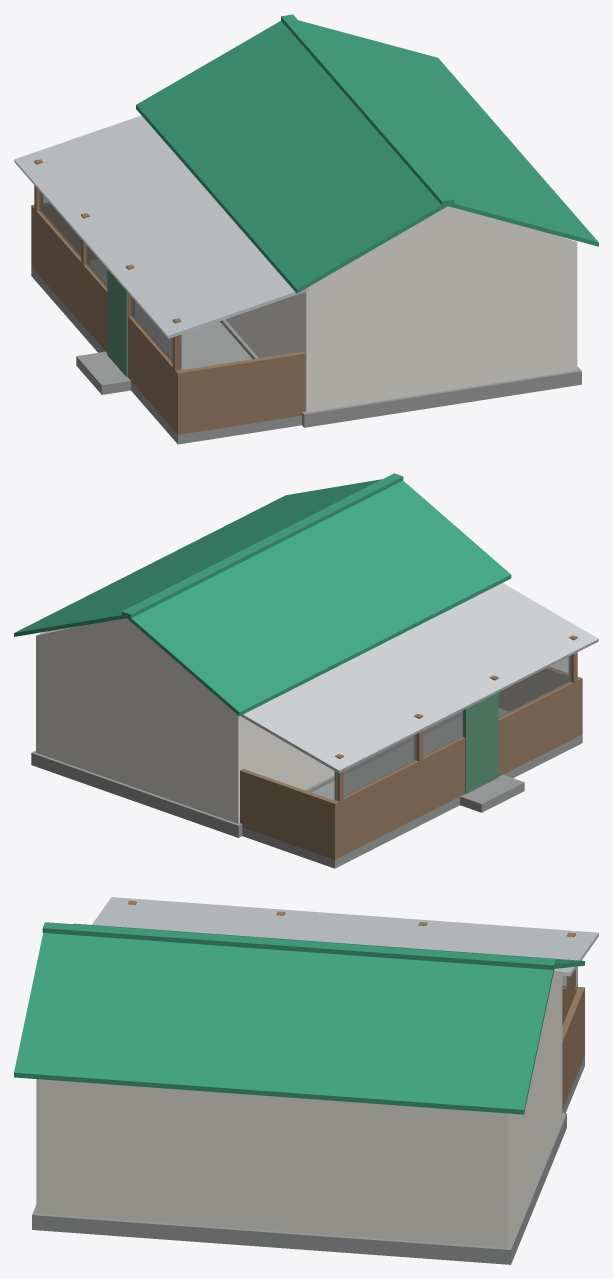
File: rares_brooder_house.glb
3 views of the same model, one above another, from view 1: azimuth 30°, elevation 25°; view 2: azimuth 150°, elevation 25°; view 3: azimuth 270°, elevation 25° (orthographic). The views are drawn at different scales.
Visible parts, largest first — view 1: Brooder_MainRoof, Brooder_MainWall, Shed_SilverRoof, Shed_Wood_W, Shed_Wood_End_-3.9, Brooder_Gable_S, Shed_Slab, Brooder_Plinth, Brooder_RidgeCap, Shed_Mesh_W, Brooder_Door, Brooder_Stoop (+1 smaller); view 2: Brooder_MainRoof, Shed_SilverRoof, Brooder_MainWall, Shed_Wood_W, Shed_Wood_End_3.2, Shed_Slab, Shed_Mesh_W, Brooder_Gable_N, Brooder_Plinth, Brooder_RidgeCap, Brooder_Door, Shed_Wood_End_-3.9 (+2 smaller); view 3: Brooder_MainRoof, Brooder_MainWall, Shed_SilverRoof, Brooder_Plinth, Brooder_RidgeCap, Shed_Wood_End_3.2.
Part boxes in pixels (x1=…): Brooder_MainRoof: x1=136, y1=20, x2=598, y2=293; Brooder_MainWall: x1=225, y1=242, x2=577, y2=412; Shed_SilverRoof: x1=14, y1=115, x2=309, y2=338; Shed_Wood_W: x1=31, y1=204, x2=183, y2=434; Shed_Wood_End_-3.9: x1=182, y1=351, x2=305, y2=433; Brooder_Gable_S: x1=316, y1=206, x2=576, y2=282; Shed_Slab: x1=31, y1=259, x2=301, y2=444; Brooder_Plinth: x1=220, y1=319, x2=581, y2=427; Brooder_RidgeCap: x1=281, y1=14, x2=454, y2=205; Shed_Mesh_W: x1=39, y1=191, x2=179, y2=370; Brooder_Door: x1=107, y1=269, x2=127, y2=377; Brooder_Stoop: x1=76, y1=351, x2=130, y2=394; Brooder_MainRoof: x1=14, y1=479, x2=511, y2=716; Shed_SilverRoof: x1=233, y1=583, x2=598, y2=773; Brooder_MainWall: x1=36, y1=631, x2=334, y2=823; Shed_Wood_W: x1=331, y1=677, x2=582, y2=859; Shed_Wood_End_3.2: x1=240, y1=769, x2=338, y2=859; Shed_Slab: x1=242, y1=708, x2=582, y2=868; Shed_Mesh_W: x1=335, y1=656, x2=571, y2=801; Brooder_Gable_N: x1=36, y1=618, x2=221, y2=701; Brooder_Plinth: x1=31, y1=711, x2=462, y2=837; Brooder_RidgeCap: x1=122, y1=473, x2=403, y2=618; Brooder_Door: x1=462, y1=692, x2=498, y2=793; Shed_Wood_End_-3.9: x1=499, y1=667, x2=582, y2=734; Brooder_MainRoof: x1=14, y1=923, x2=584, y2=1114; Brooder_MainWall: x1=36, y1=973, x2=562, y2=1247; Shed_SilverRoof: x1=92, y1=897, x2=598, y2=976; Brooder_Plinth: x1=32, y1=1112, x2=566, y2=1264; Brooder_RidgeCap: x1=42, y1=922, x2=556, y2=970; Shed_Wood_End_3.2: x1=562, y1=987, x2=584, y2=1109.
Bounding box in the file's own units: 8.93 × 3.96 × 8.93.
